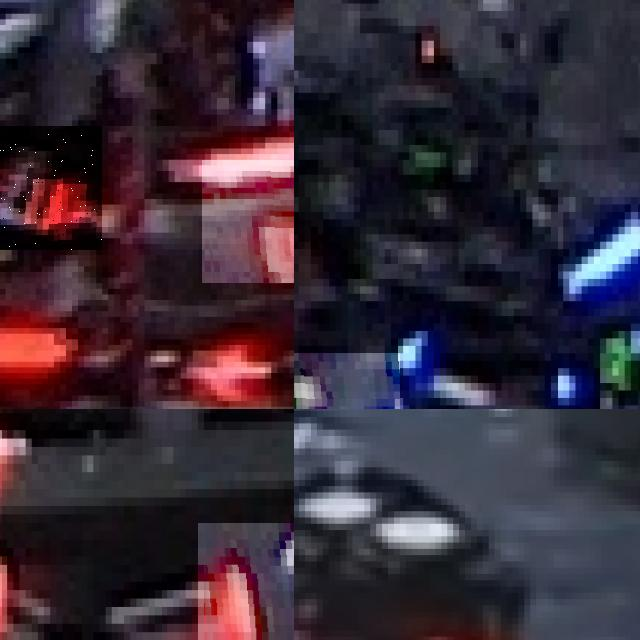B1: (294, 353, 400, 409)
R1: (198, 523, 294, 640)
R4: (0, 126, 102, 249), (201, 159, 294, 283)
